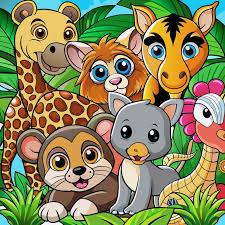Non_Gorille: (5, 2, 223, 223)
